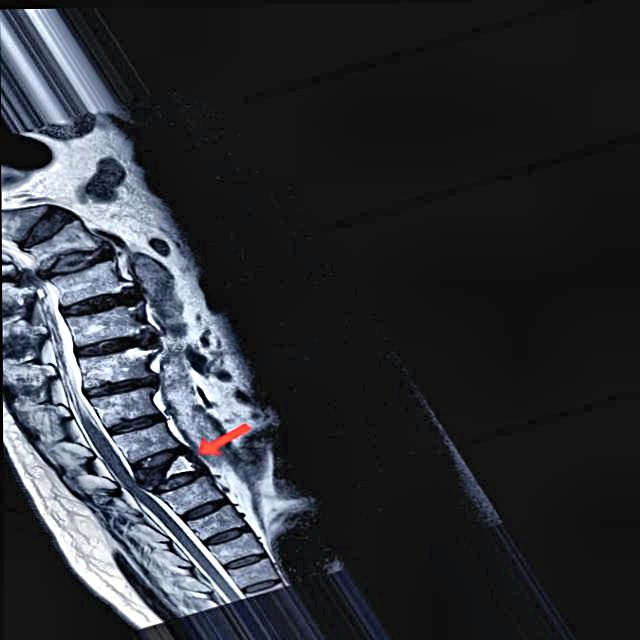Comminuted: (116, 436, 215, 505)
